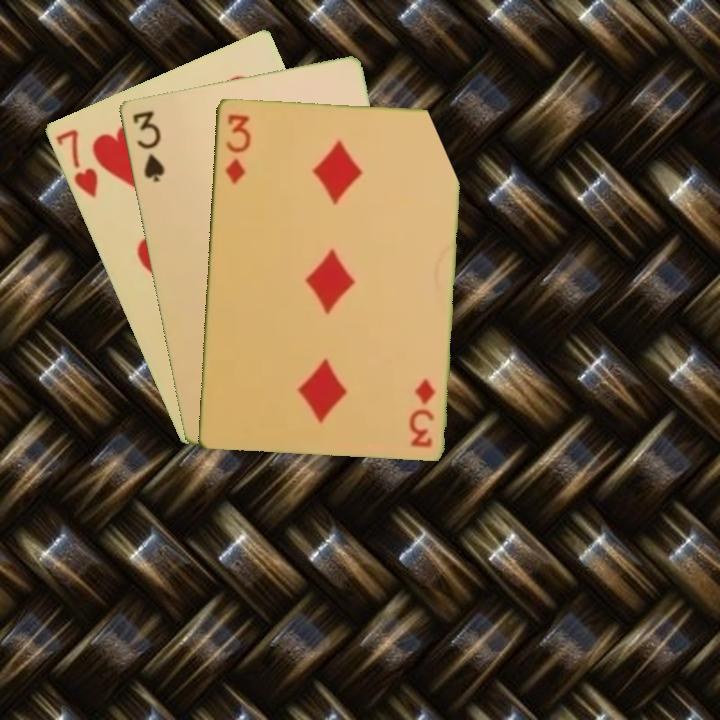3d: (221, 110, 253, 187), (406, 375, 438, 450)
3s: (128, 107, 167, 185)
7h: (51, 125, 101, 200)
